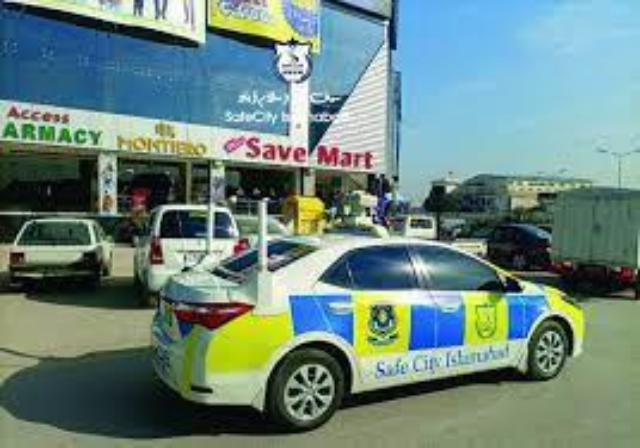police_car: (150, 224, 583, 425)
